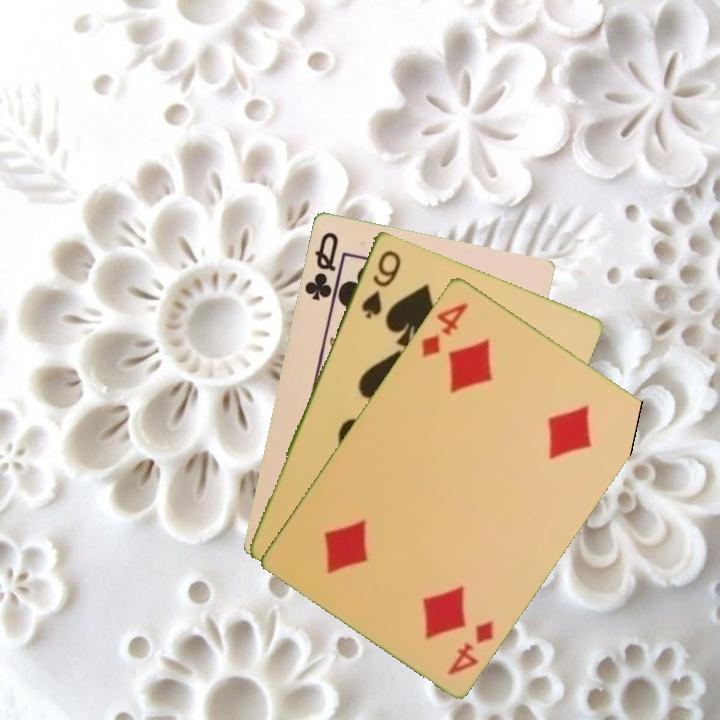4d: (417, 298, 471, 360), (444, 616, 497, 678)
9s: (357, 246, 404, 321)
Qc: (300, 228, 341, 304)
